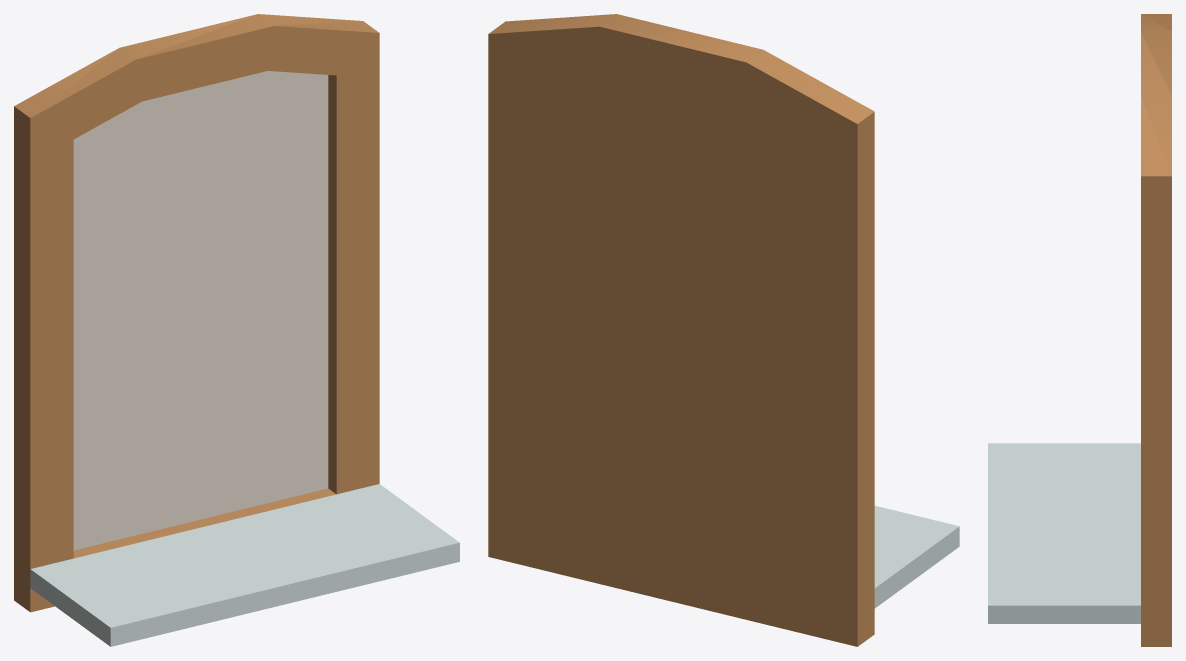
The model's file is kitBathroomMirror.glb.
3 views of the same model, side by side, from view 1: azimuth 30°, elevation 25°; view 2: azimuth 150°, elevation 25°; view 3: azimuth 270°, elevation 25° (orthographic). The views are drawn at different scales.
Parts seen in each view (by area): view 1: kitBathroomMirror_metal, kitBathroomMirror_wood, kitBathroomMirror_glass; view 2: kitBathroomMirror_wood, kitBathroomMirror_glass; view 3: kitBathroomMirror_glass, kitBathroomMirror_wood.
Boxes of the visible parts, x1,y1,x2,y2 form: kitBathroomMirror_metal: (73,71,328,550); kitBathroomMirror_wood: (14,14,379,612); kitBathroomMirror_glass: (30,484,459,646); kitBathroomMirror_wood: (488,14,874,646); kitBathroomMirror_glass: (874,505,959,608); kitBathroomMirror_glass: (988,443,1140,623); kitBathroomMirror_wood: (1141,14,1171,646).
Bounding box in the file's own units: 0.6027 × 0.8693 × 0.2888.
